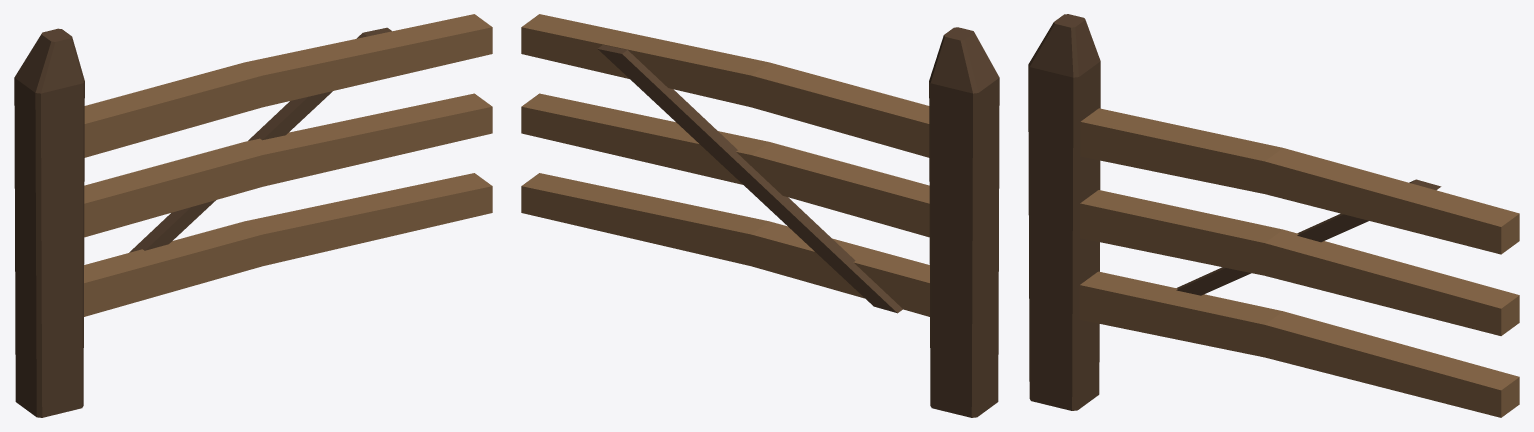
Rendered from sheep_hurdle.glb.
3 renders of one model, left to right at view 1: azimuth 30°, elevation 25°; view 2: azimuth 150°, elevation 25°; view 3: azimuth 330°, elevation 25°, orthographic. The views are drawn at different scales.
Parts seen in each view (by area): view 1: Sheep hurdle; view 2: Sheep hurdle; view 3: Sheep hurdle.
Part boxes in pixels (x1,y1,x2,y2): Sheep hurdle: (14,14,492,417); Sheep hurdle: (521,14,999,417); Sheep hurdle: (1028,14,1519,417).
Bounding box in the file's own units: 1.06 × 0.81 × 0.108.
